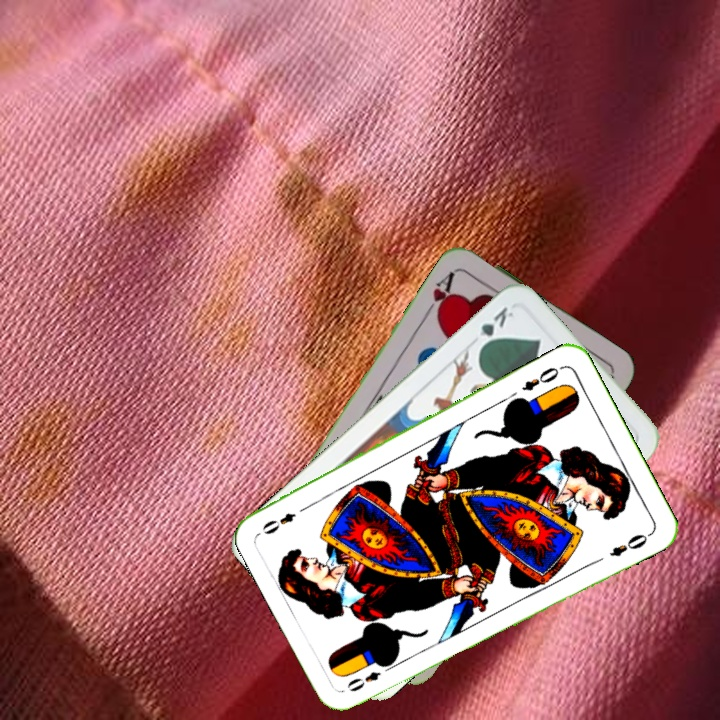EO: (343, 659, 396, 695), (518, 361, 566, 394)
GK: (472, 302, 516, 353)
HA: (421, 266, 460, 321)
